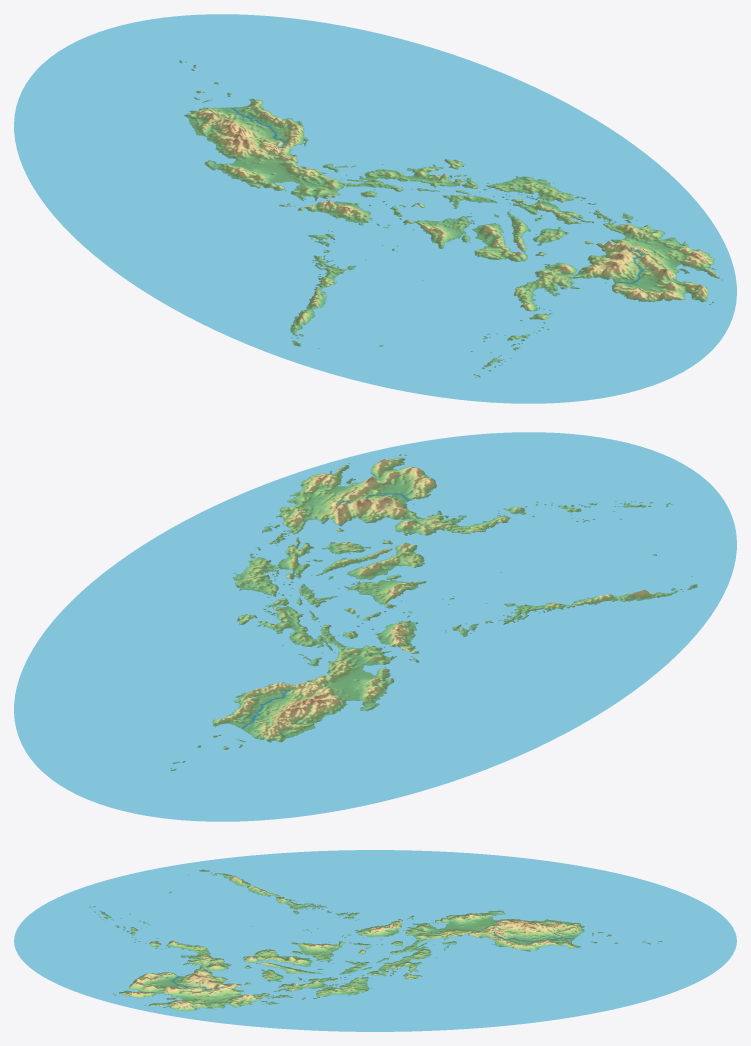
Rendered from PHL-terrain.glb.
The picture shows the model from 3 angles, top to bottom: view 1: azimuth 30°, elevation 25°; view 2: azimuth 150°, elevation 25°; view 3: azimuth 270°, elevation 25°; orthographic projection. The views are drawn at different scales.
Parts seen in each view (by area): view 1: Relevo com hidrografia; view 2: Relevo com hidrografia; view 3: Relevo com hidrografia.
Part boxes in pixels (x1,y1,x2,y2): Relevo com hidrografia: [14, 14, 736, 403]; Relevo com hidrografia: [14, 432, 736, 821]; Relevo com hidrografia: [14, 850, 736, 1031].
Size of the model in its own units: 1.17 by 0.0227 by 1.97.
Materials: 2 (1 with a texture image).
